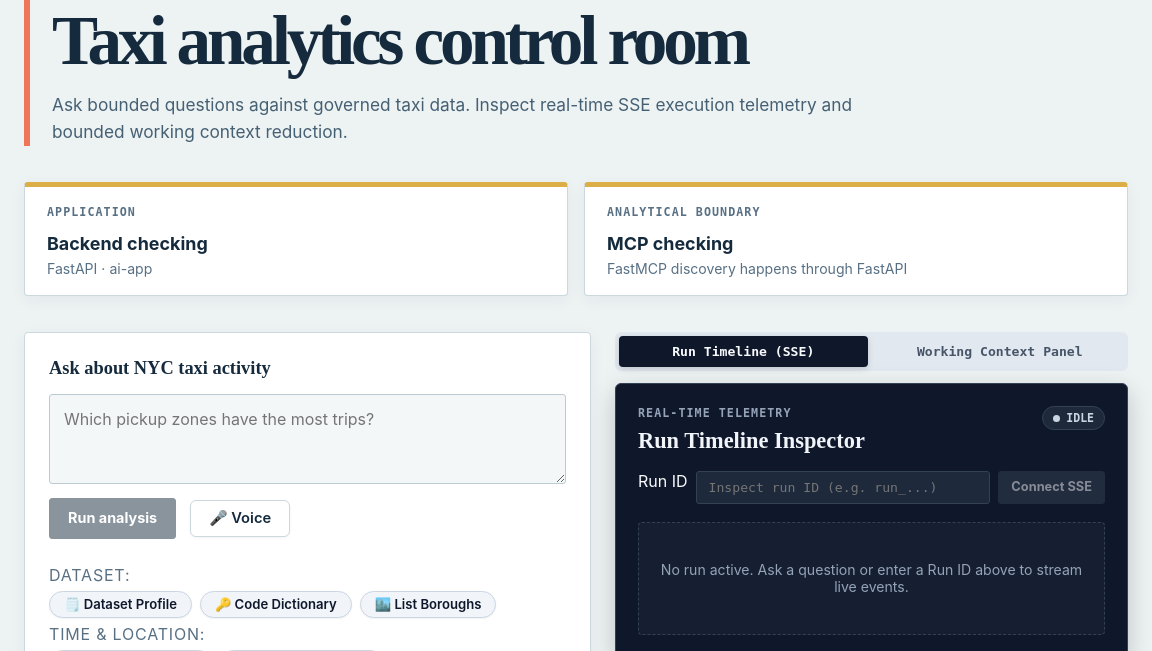
Test: App › renders a controlled prompt error without exposing provider details
The image size is (1152, 651).
Type "What dataset is available?" into the text box labelled "Ask about NYC taxi activity".
click(308, 440); type("What dataset is available?")  # box x1=49 y1=394 x2=566 y2=484
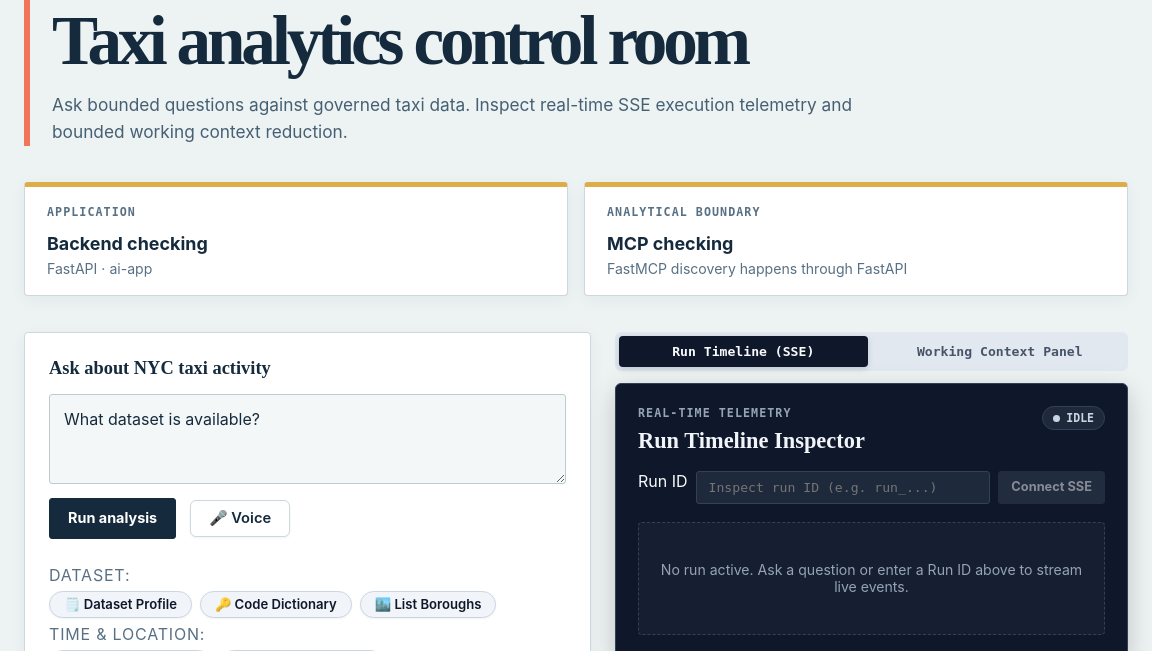
Click the button "Run analysis".
click(113, 519)  # box x1=49 y1=498 x2=176 y2=539
(page scrolled)
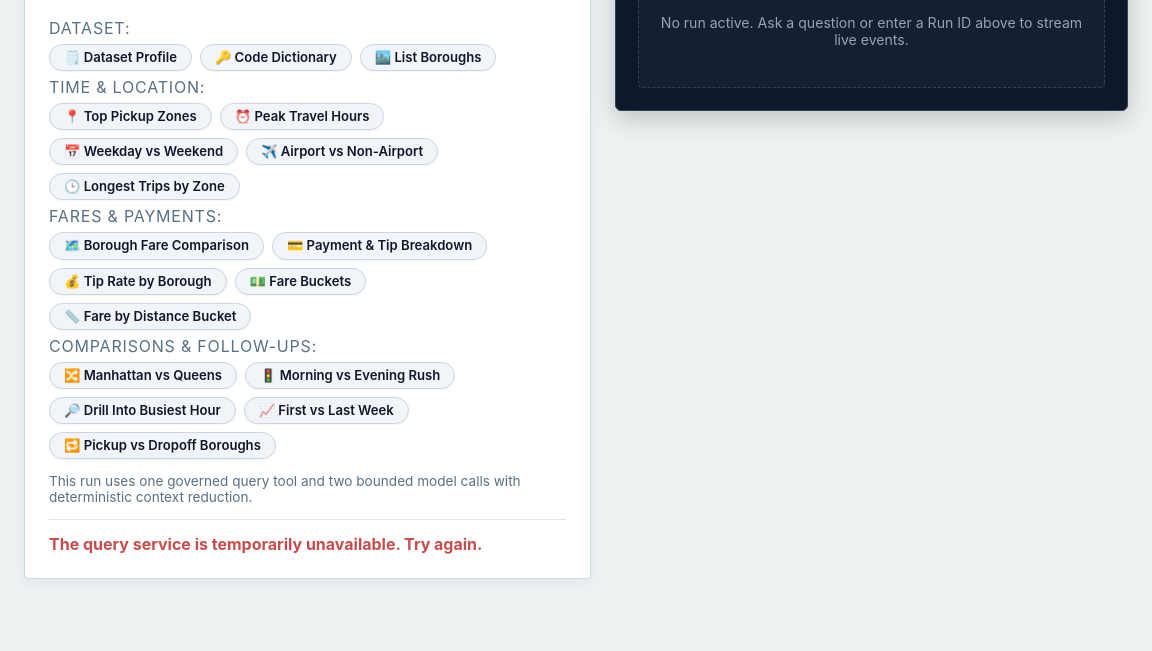
Expected: the text "The query service is temporarily unavailable. Try again." is shown, x1=49 y1=534 x2=482 y2=554
